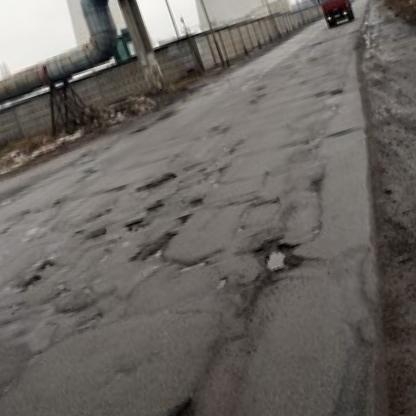pothole: (251, 231, 301, 282), (136, 228, 184, 265), (136, 396, 211, 416), (132, 169, 178, 195), (20, 270, 44, 287), (146, 199, 166, 217), (126, 216, 145, 232), (40, 257, 56, 272), (189, 196, 206, 209), (179, 212, 193, 226)
